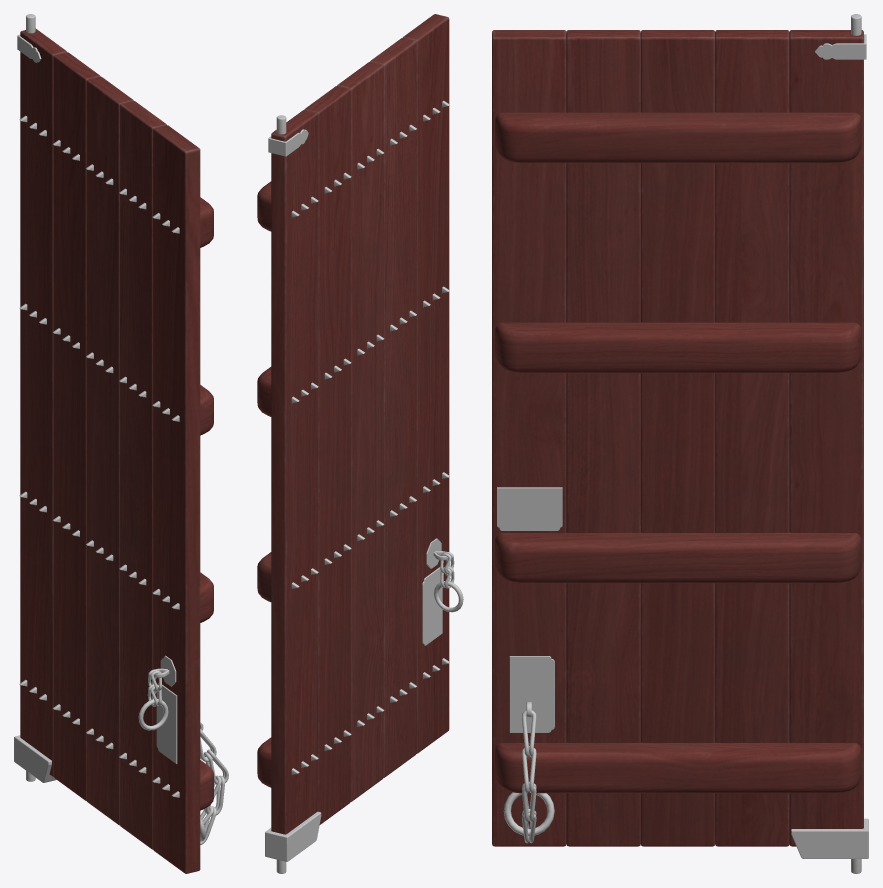
Rendered from SM_SJM_DoorC_02.fbx.
The picture shows the model from 3 angles, left to right: view 1: azimuth 30°, elevation 25°; view 2: azimuth 150°, elevation 25°; view 3: azimuth 270°, elevation 25°; orthographic projection. The views are drawn at different scales.
Visible parts, largest first — view 1: SM_SJM_DoorC_02; view 2: SM_SJM_DoorC_02; view 3: SM_SJM_DoorC_02.
Part boxes in pixels (box(x1,y1,x2,y2)): SM_SJM_DoorC_02: box(14, 14, 228, 873); SM_SJM_DoorC_02: box(257, 14, 463, 873); SM_SJM_DoorC_02: box(492, 14, 868, 873).
Bounding box in the file's own units: 47.89 × 157 × 394.
